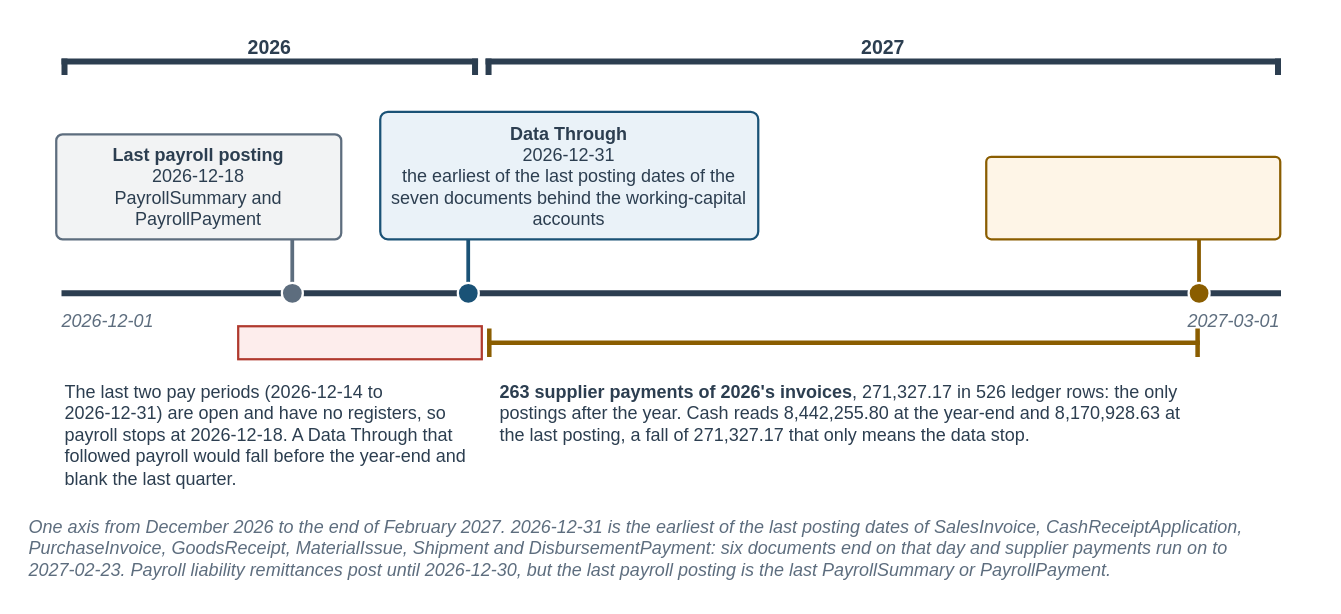
This 1341x614 diagram has some shape labels left out. Each missing label, with the centre of its shape:
"Last posting in the ledger 2027-02-23 supplier payments only" belongs at pixel 1132 197.
"Periods 78 and 79: open" belongs at pixel 359 342.
